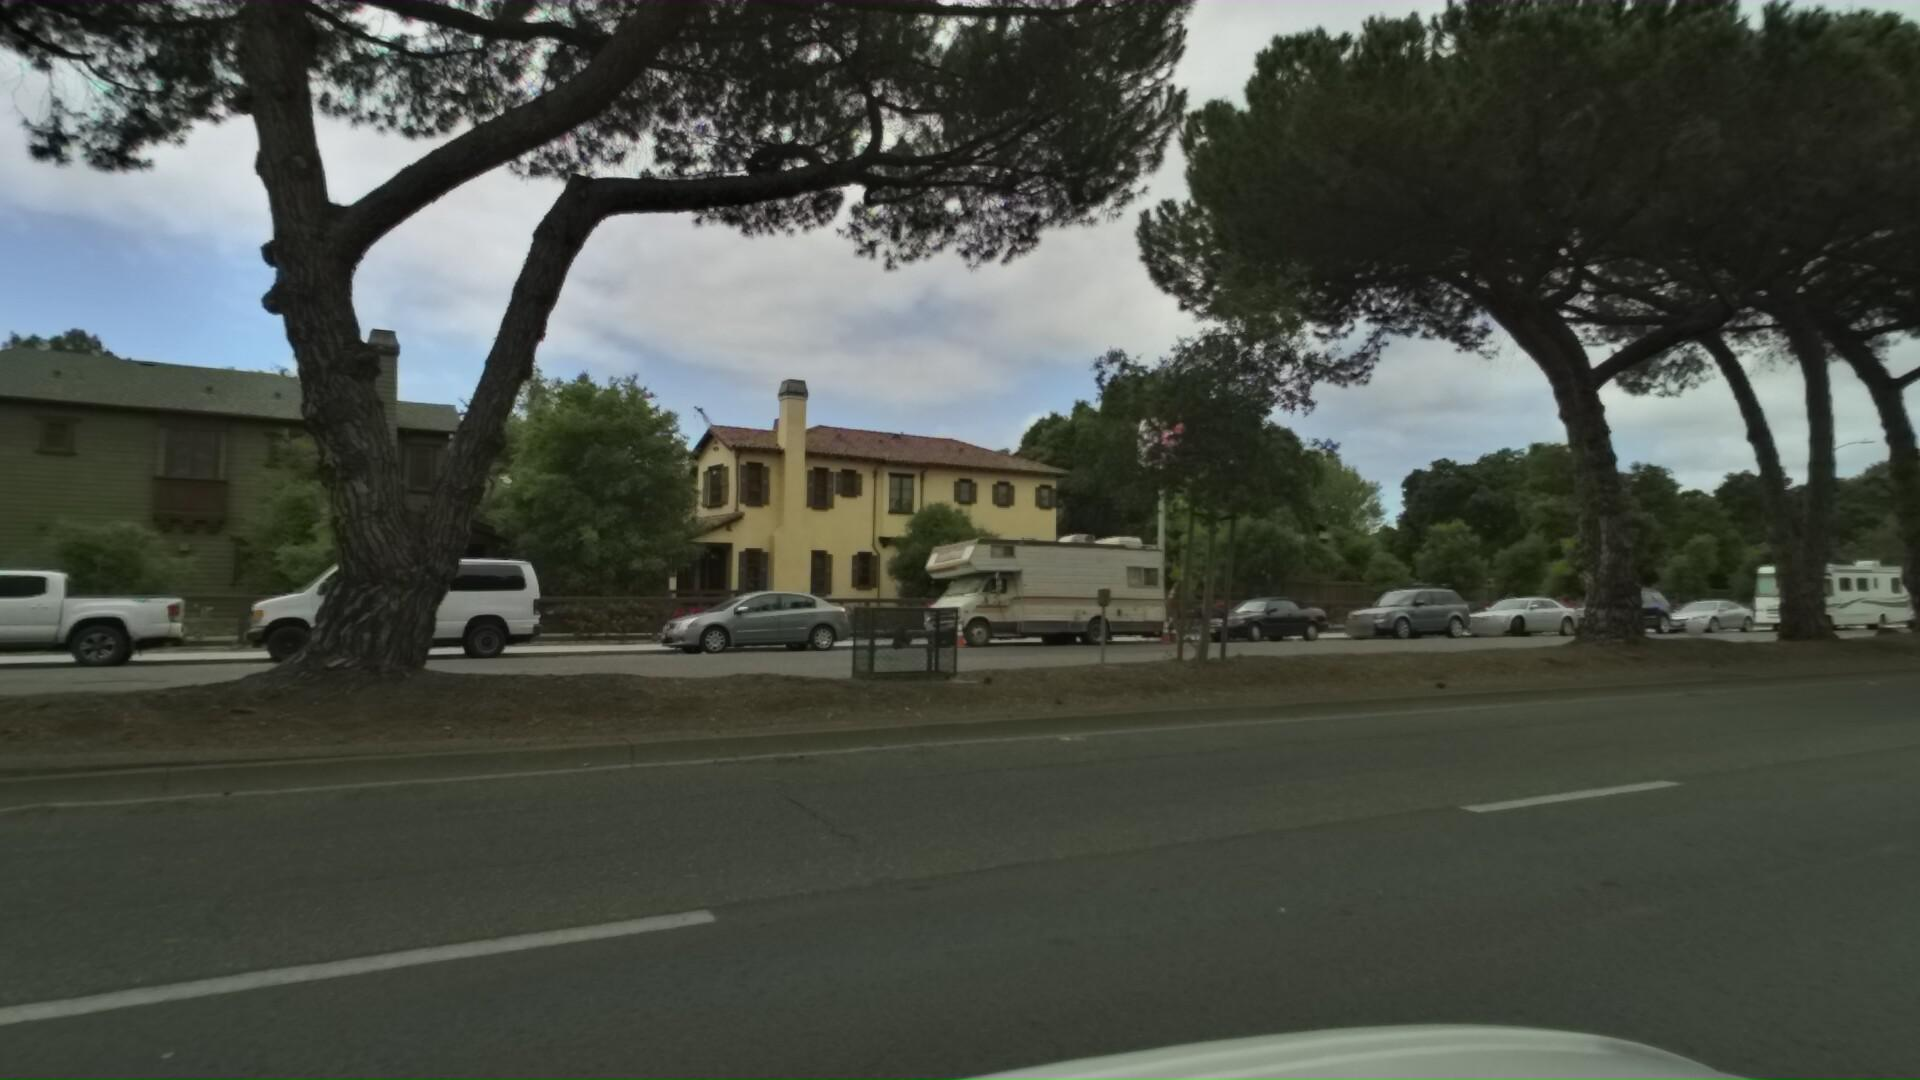car: (194, 543, 526, 669), (0, 556, 171, 692), (621, 578, 847, 654), (1316, 579, 1465, 636), (1174, 588, 1323, 641), (1545, 580, 1673, 632), (1436, 587, 1575, 634), (1634, 587, 1754, 629)
other_vehicle: (885, 516, 1197, 646), (1725, 535, 1911, 629), (1916, 559, 1920, 618)
